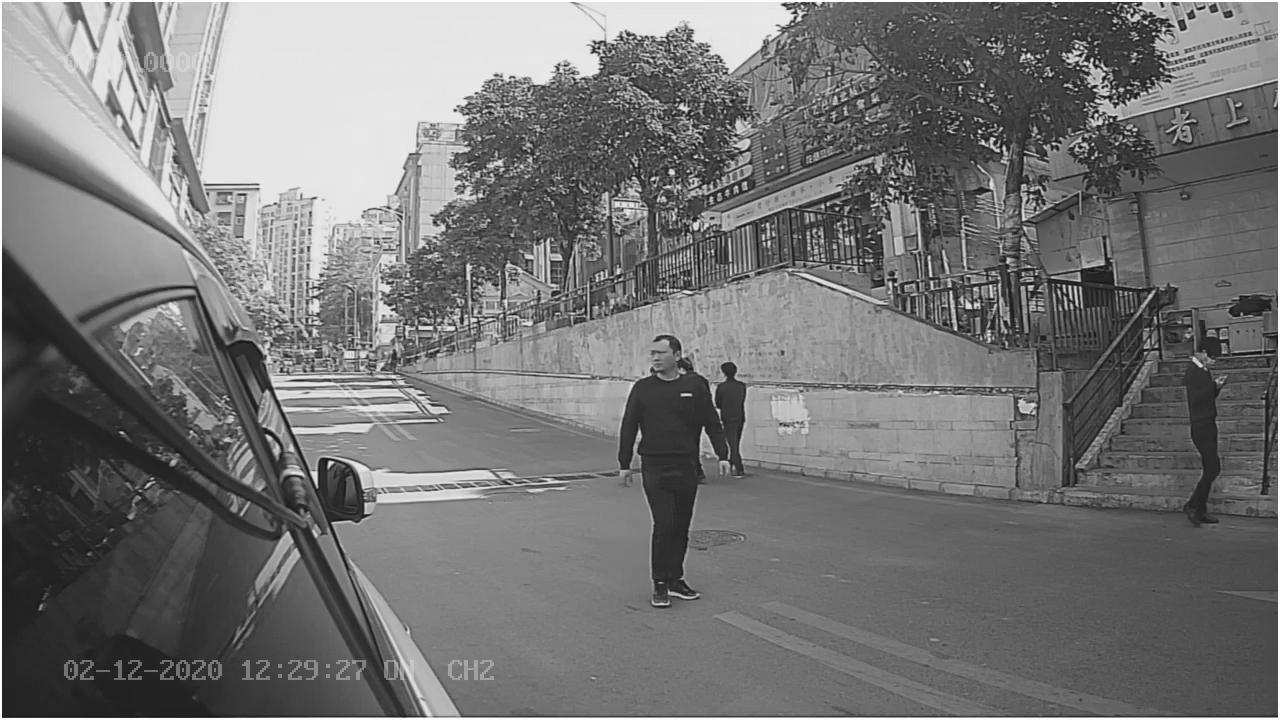person: (614, 327, 730, 607)
